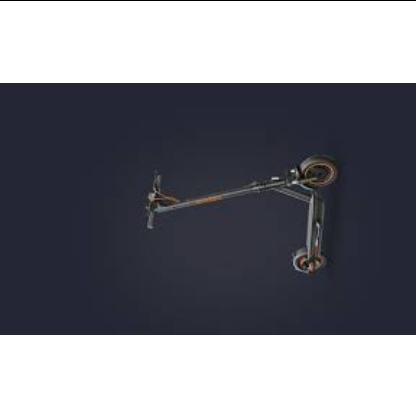bike: (145, 153, 339, 276)
